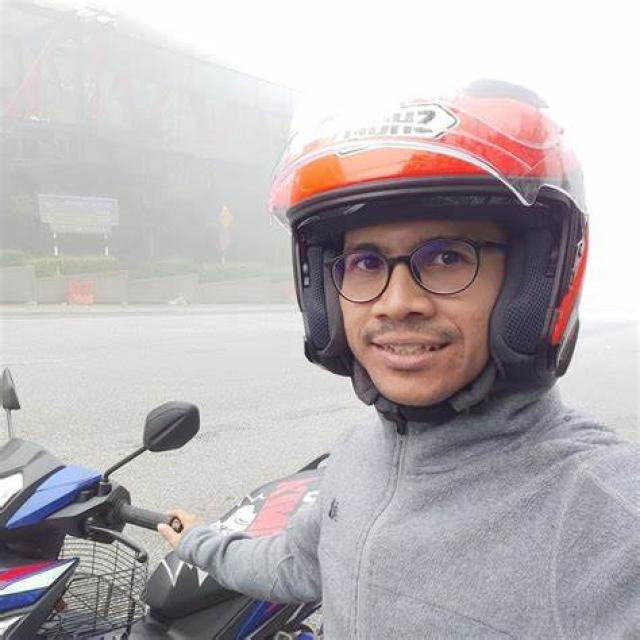helmet: (258, 52, 598, 431)
